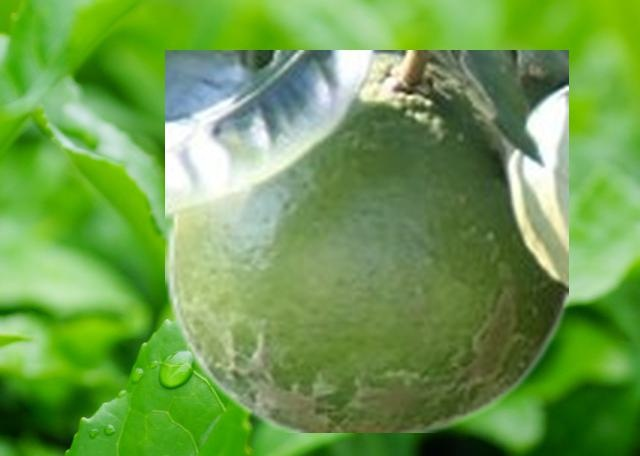dalandan: (165, 50, 567, 431)
